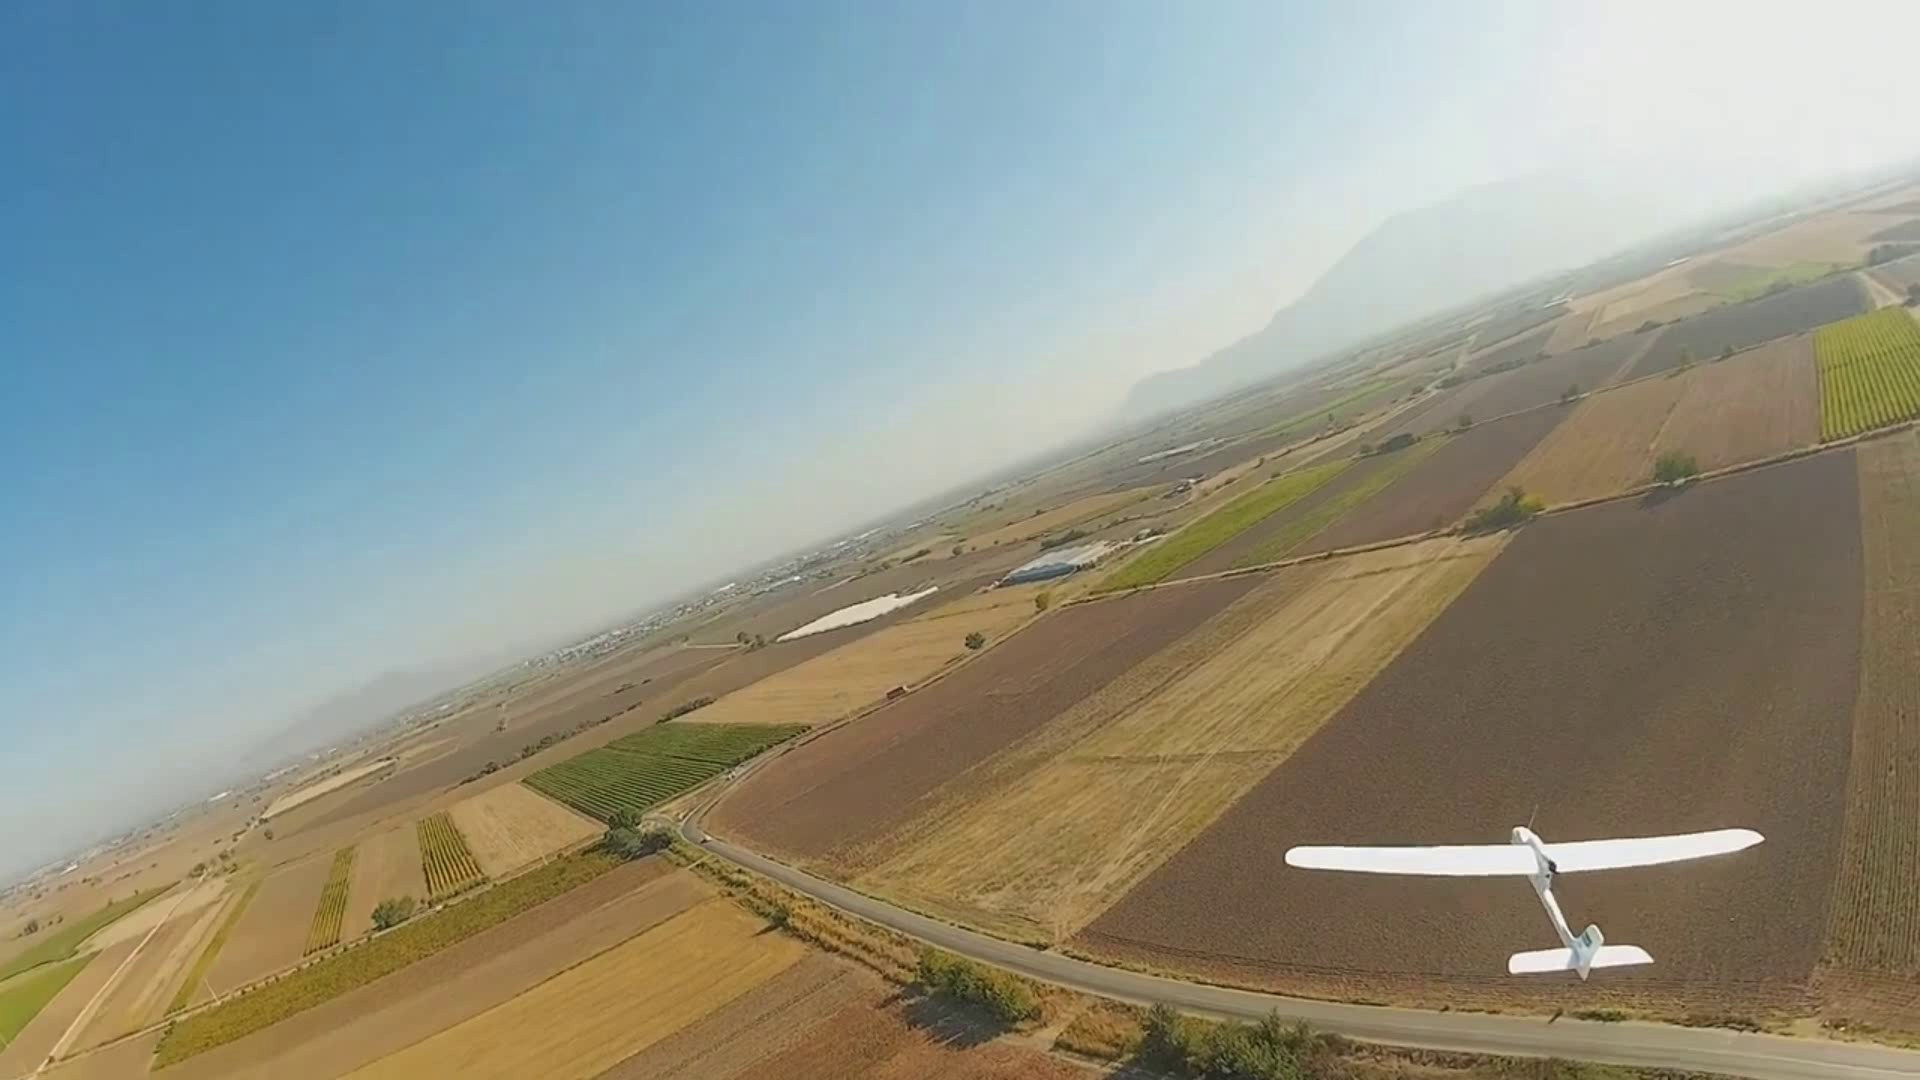airplane: (1282, 823, 1766, 976)
